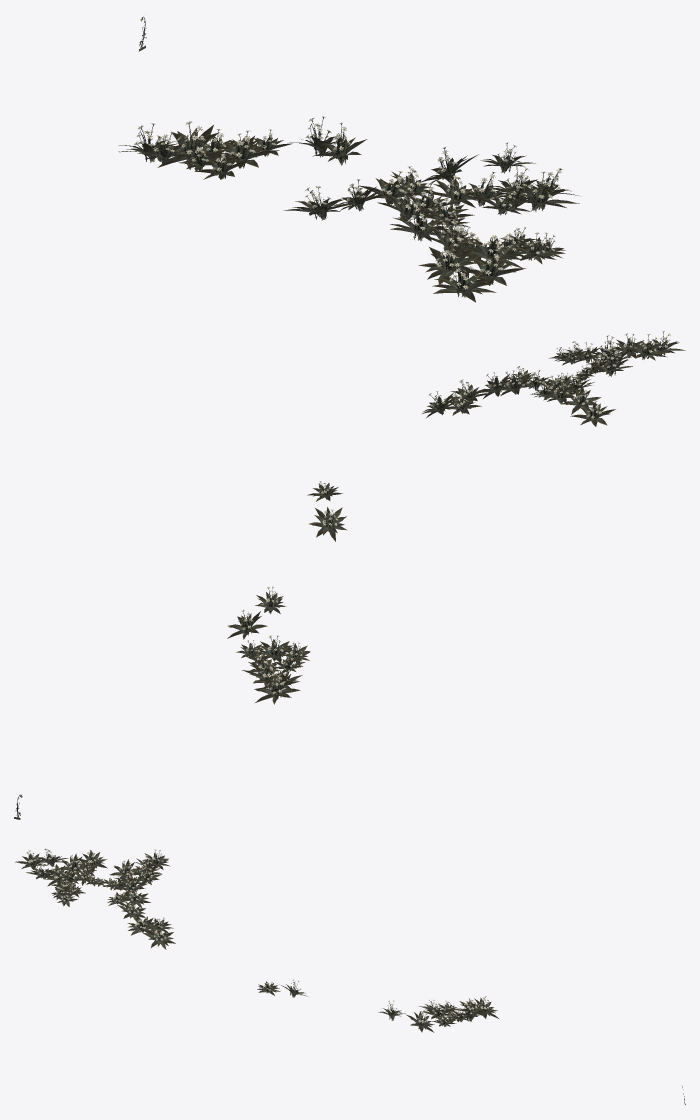
File: grass21.fbx
3 renders of one model, top to bottom at view 1: azimuth 30°, elevation 25°; view 2: azimuth 150°, elevation 25°; view 3: azimuth 270°, elevation 25°, orthographic. The views are drawn at different scales.
Visible parts, largest first — view 1: m111214_0; view 2: m111214_0; view 3: m111214_0.
Boxes of the visible parts, bbox=[...] form: m111214_0: bbox=[118, 16, 580, 302]; m111214_0: bbox=[14, 331, 685, 819]; m111214_0: bbox=[15, 848, 685, 1104].
Bounding box in the file's own units: 65276 × 57485 × 197387.
1 material, 1 textured.
